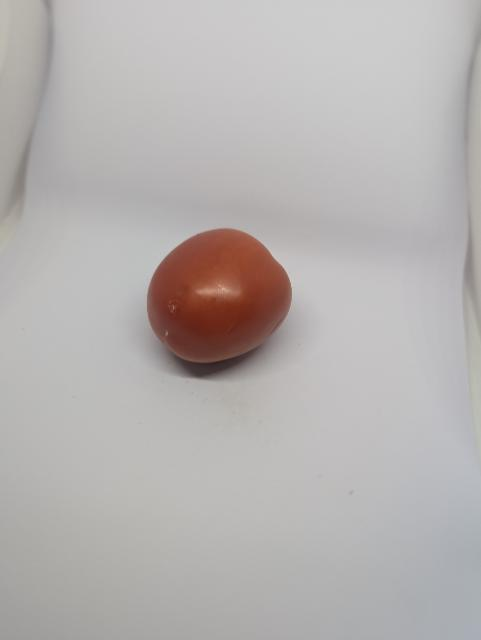red: (134, 214, 300, 389)
